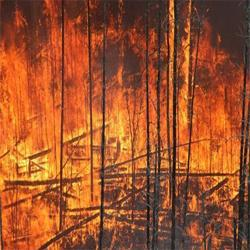fire: (179, 78, 243, 174), (61, 94, 126, 177), (1, 127, 60, 179)
